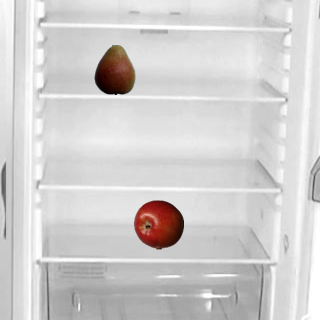Apple Braeburn: (133, 199, 183, 249)
Pear Forelle: (89, 44, 139, 94)
